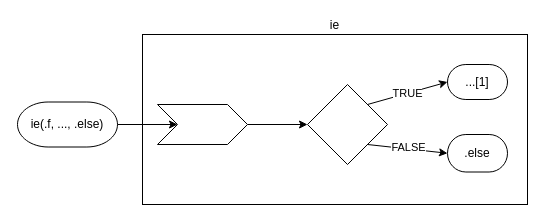
The diagram is 545 pixels wide and 222 high, and some of its shapes have lost their labels. The centre of each missing label's shape, as x and y in pixels:
.f(...): pixel 202 124
if: pixel 347 124
